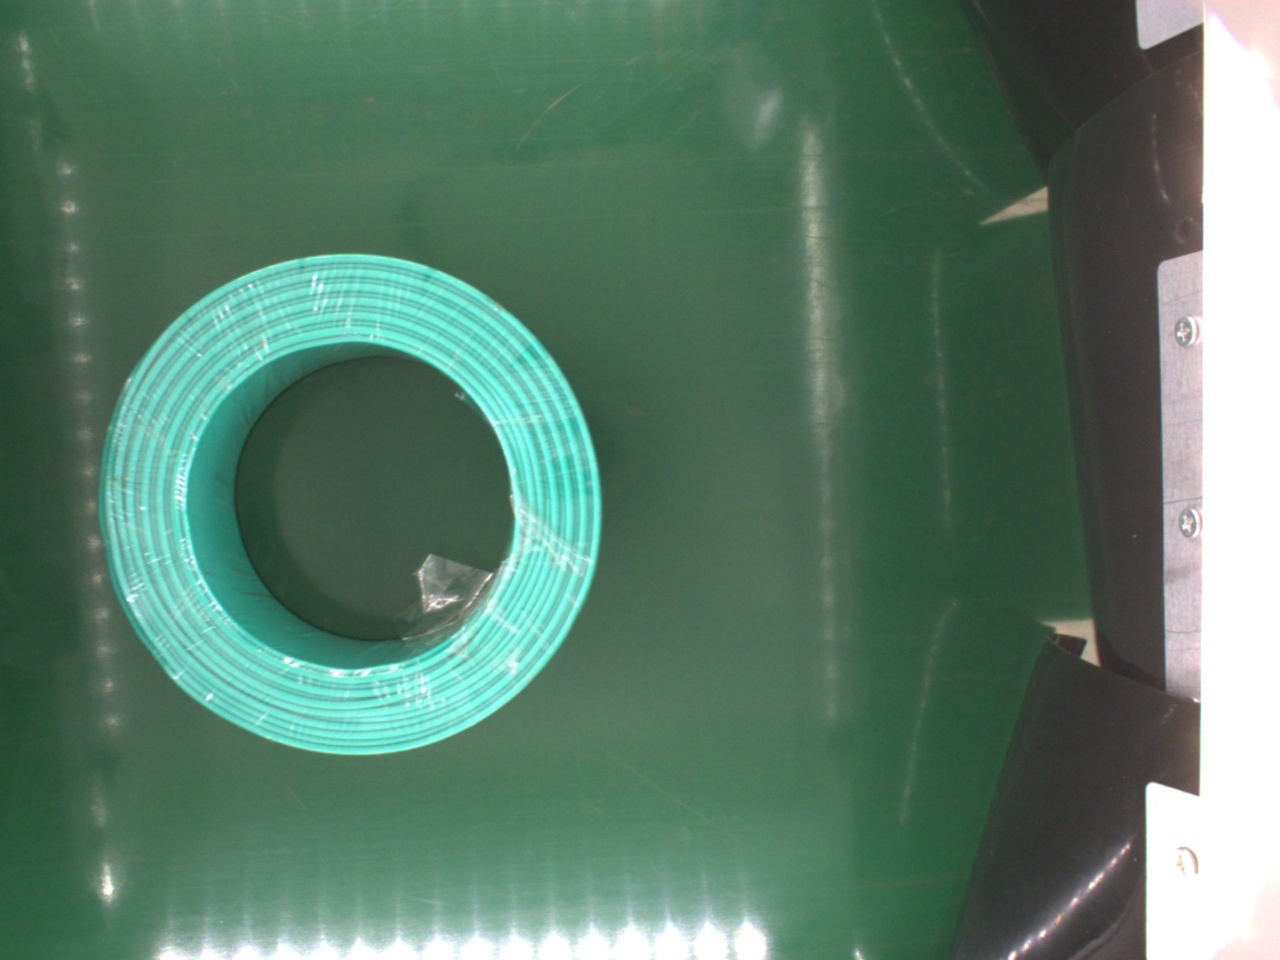green: (92, 250, 607, 759)
